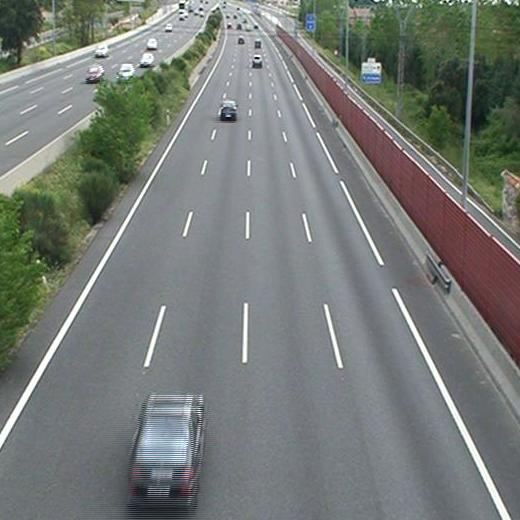car: (129, 395, 204, 503), (221, 100, 237, 118), (252, 55, 264, 66), (254, 40, 262, 50)
